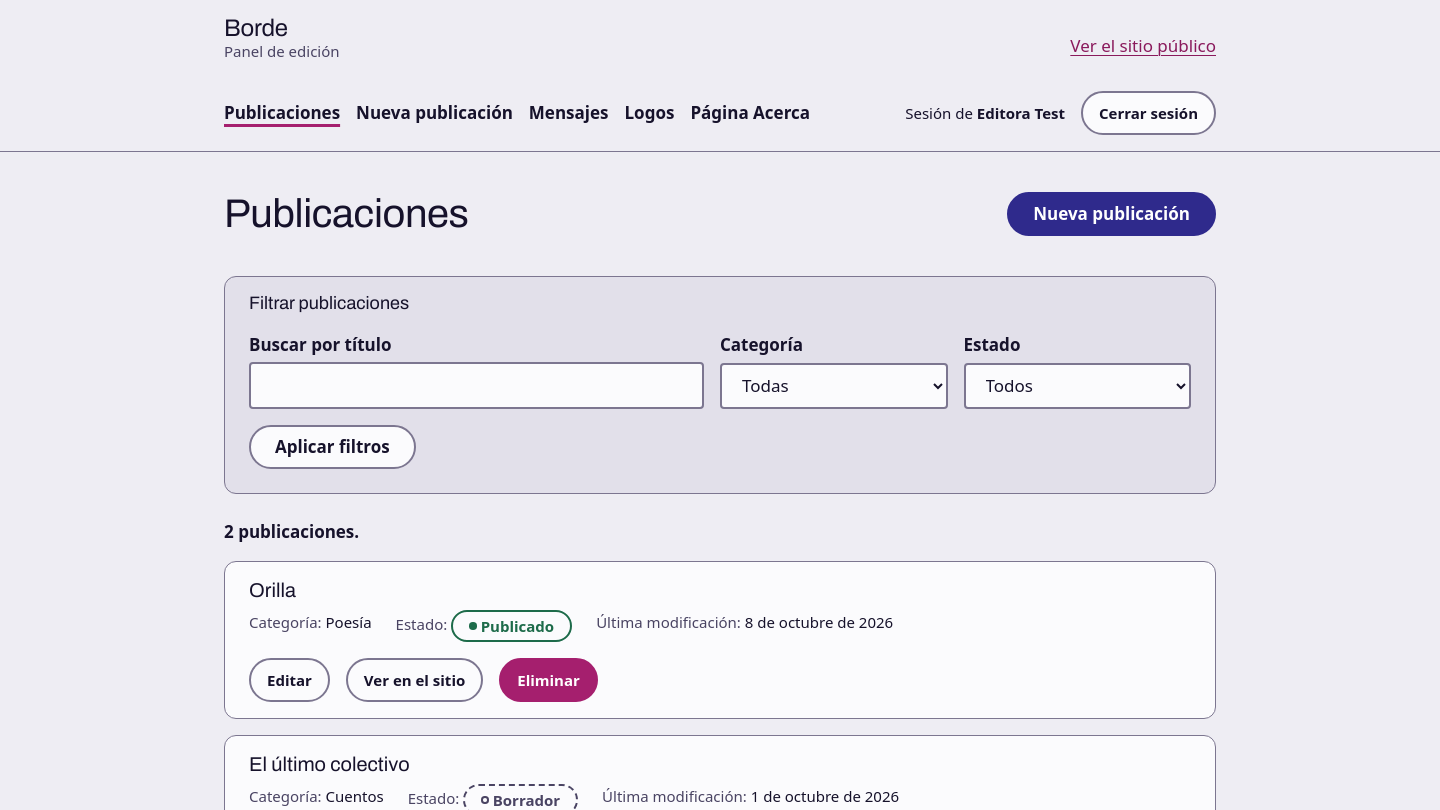
Test: Listado del panel › los filtros se envían como parámetros de la URL
Expected: the heading "Publicaciones" is shown, [224,192,468,236]
Type "colectivo" into the search field labelled "Buscar por título".
click(476, 385); type("colectivo")  # box [249,362,704,409]
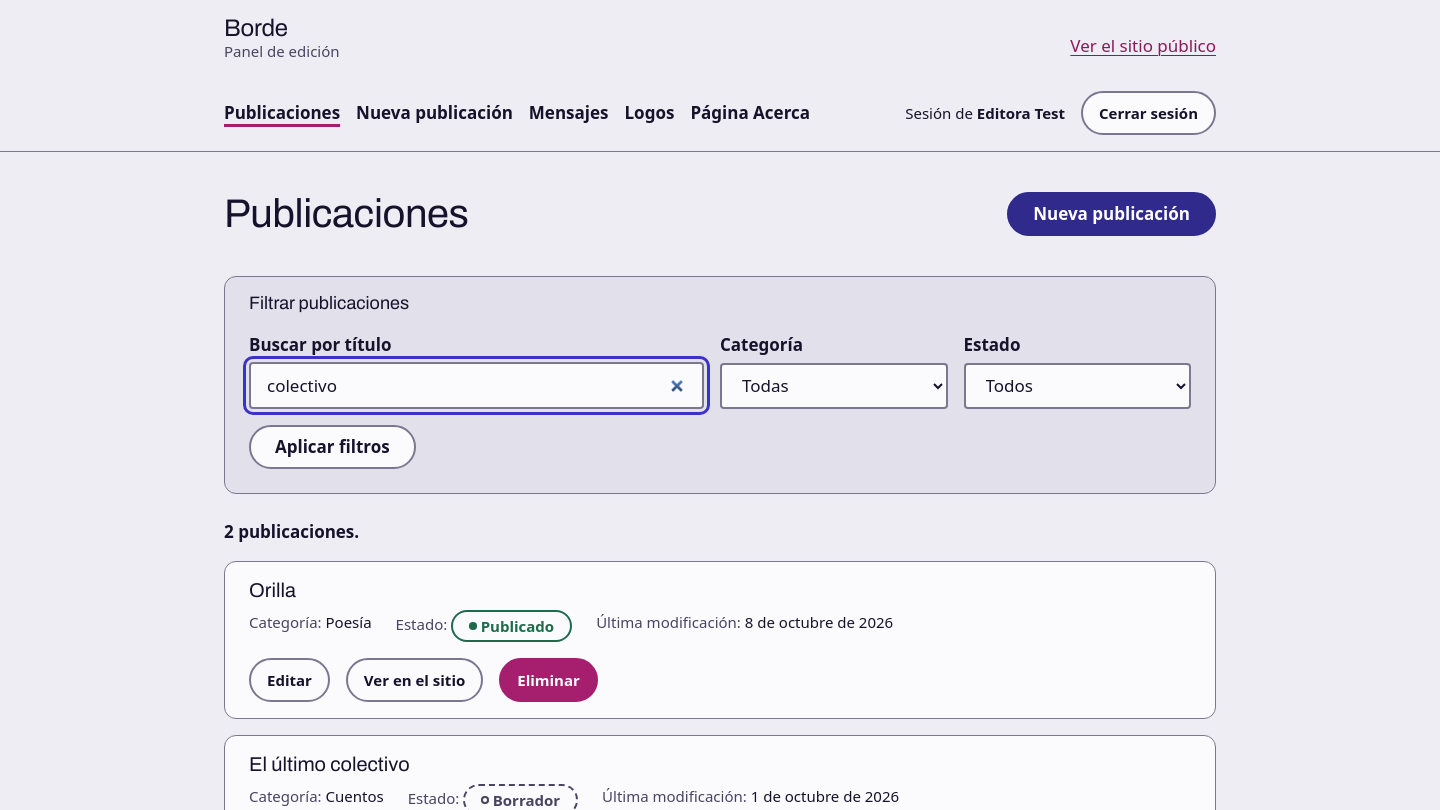
Select "Borradores" in the dropdown labelled "Estado" at (1077, 386), box [964,363,1191,409]
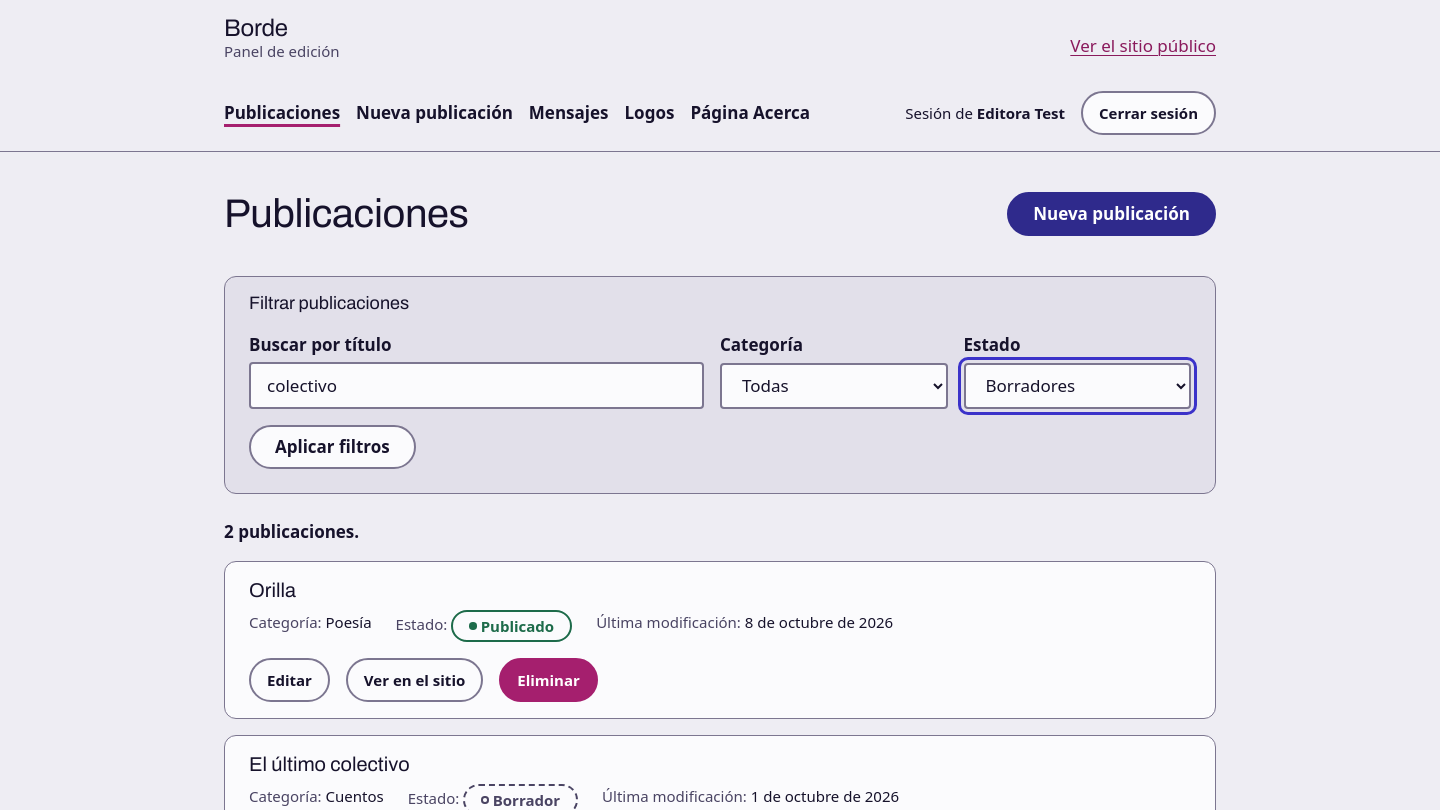
Click the button "Aplicar filtros".
click(332, 447)  # box [249,425,416,469]
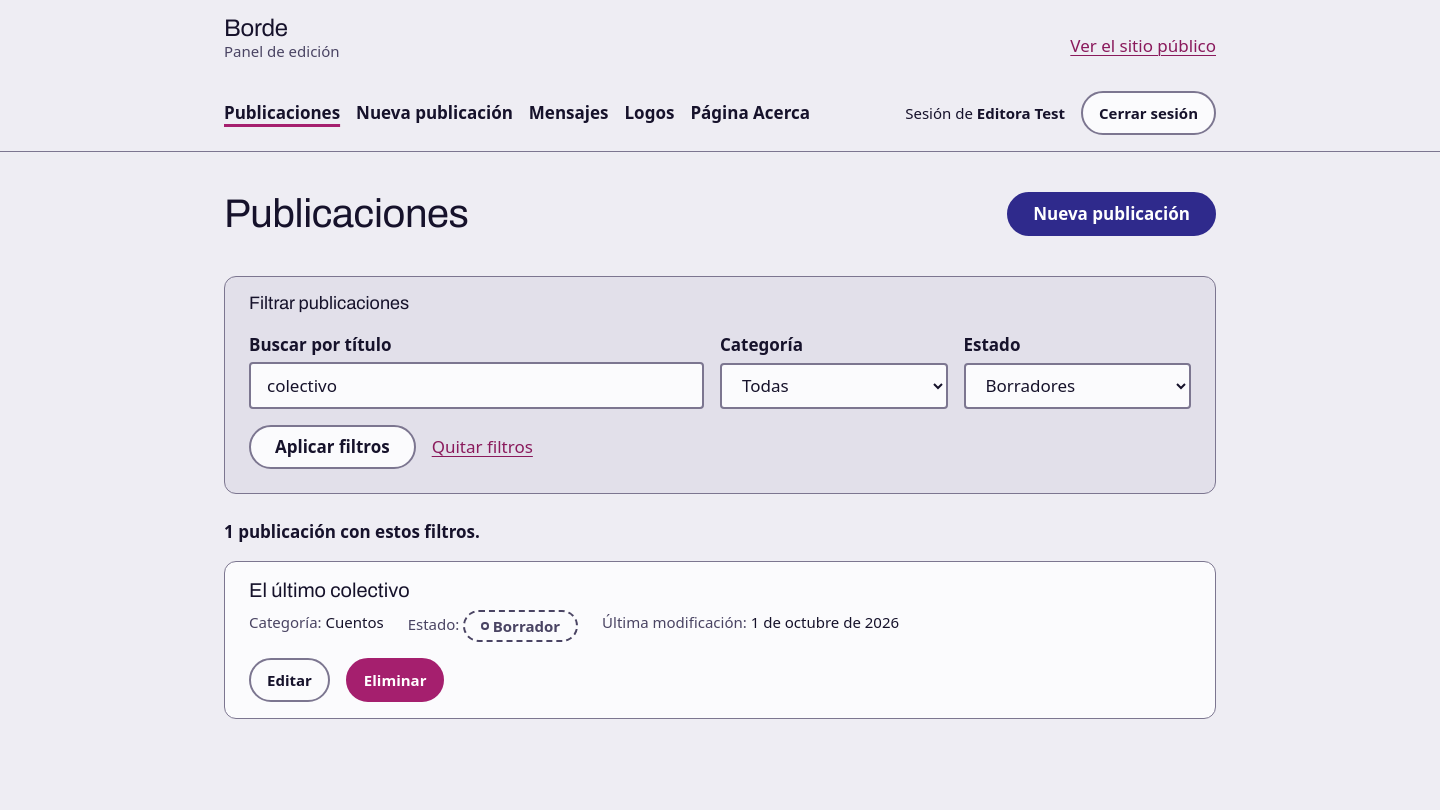
Result: the text "1 publicación con estos filtros." is shown at [224,520,480,543]
Result: the link "Quitar filtros" is shown at [432,433,533,461]
